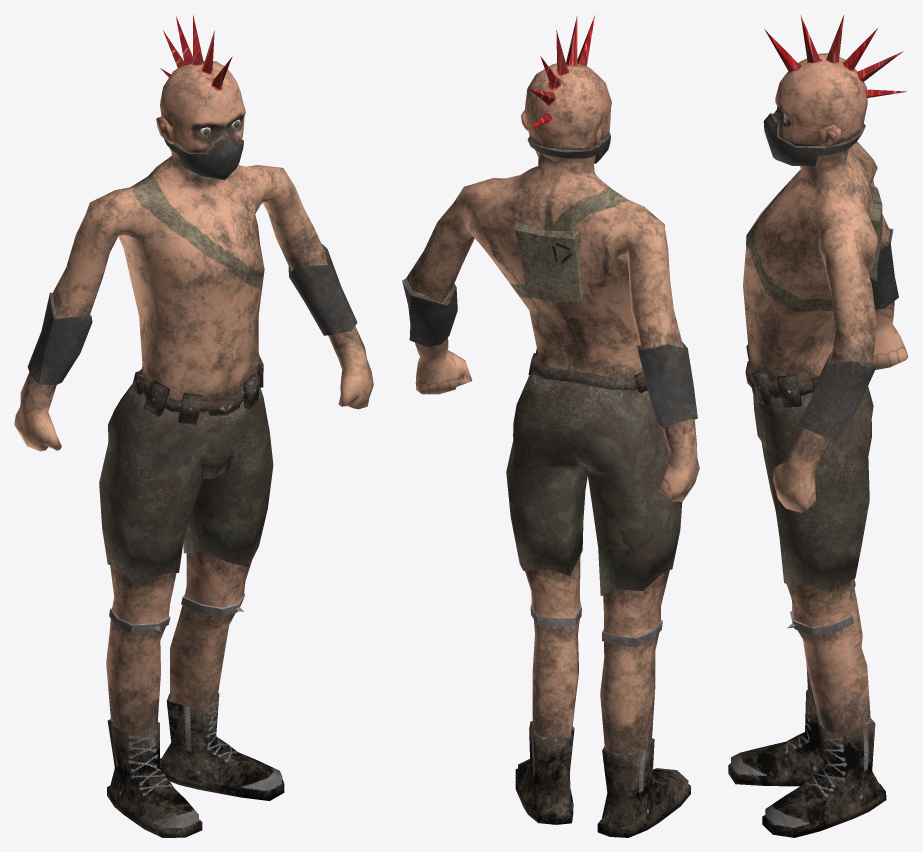
Rendered from Anim_interruptor_npc2.0036.obj.
The picture shows the model from 3 angles, left to right: view 1: azimuth 30°, elevation 25°; view 2: azimuth 150°, elevation 25°; view 3: azimuth 270°, elevation 25°; orthographic projection. The views are drawn at different scales.
Parts seen in each view (by area): view 1: polySurface1; view 2: polySurface1; view 3: polySurface1.
Part boxes in pixels (x1,y1,x2,y2): polySurface1: (14,15,373,837); polySurface1: (402,15,699,837); polySurface1: (728,15,908,837).
Size of the model in its own units: 4.31 by 10.15 by 2.09.
2 materials, 2 textured.
